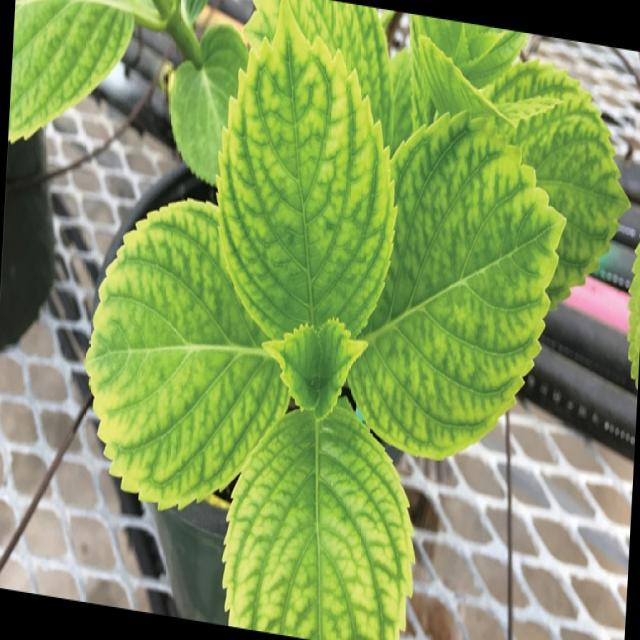Chlorosis: (25, 18, 577, 603)
